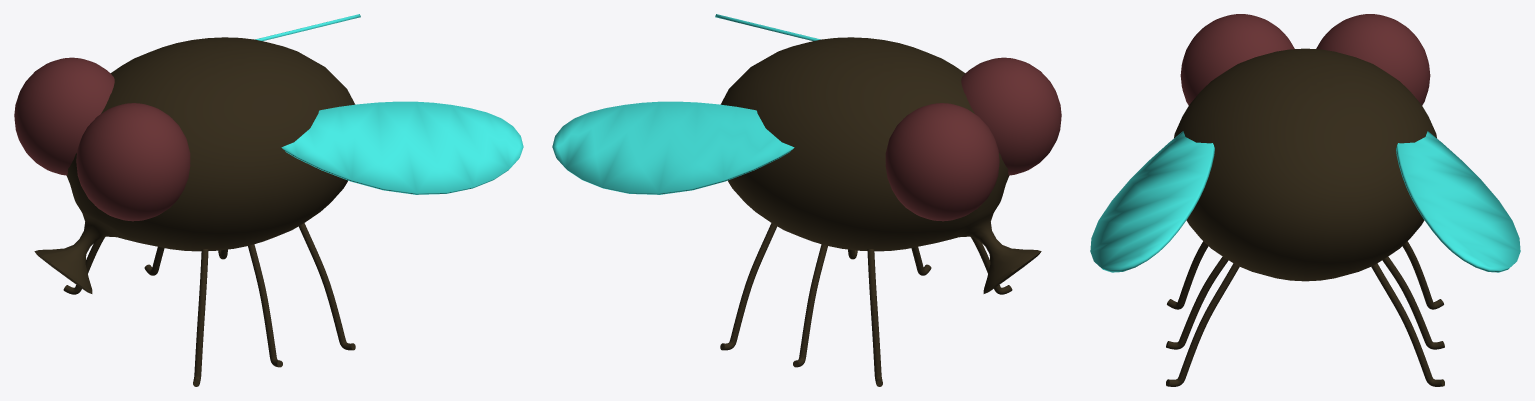
Rendered from Fly.fbx.
3 views of the same model, side by side, from view 1: azimuth 30°, elevation 25°; view 2: azimuth 150°, elevation 25°; view 3: azimuth 270°, elevation 25° (orthographic). The views are drawn at different scales.
Parts seen in each view (by area): view 1: Sphere; view 2: Sphere; view 3: Sphere.
Part boxes in pixels (x1,y1,x2,y2): Sphere: (14, 14, 523, 386); Sphere: (552, 14, 1061, 386); Sphere: (1090, 14, 1520, 386).
Bounding box in the file's own units: 364 × 235 × 327.
